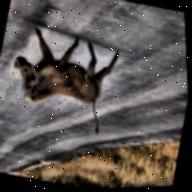boar: (0, 21, 125, 140)
